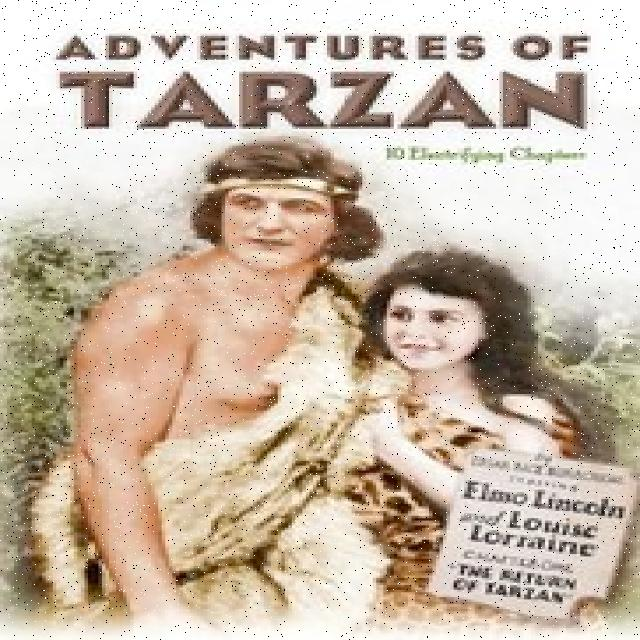movie-judul: (38, 17, 611, 146)
picture: (40, 145, 640, 635)
